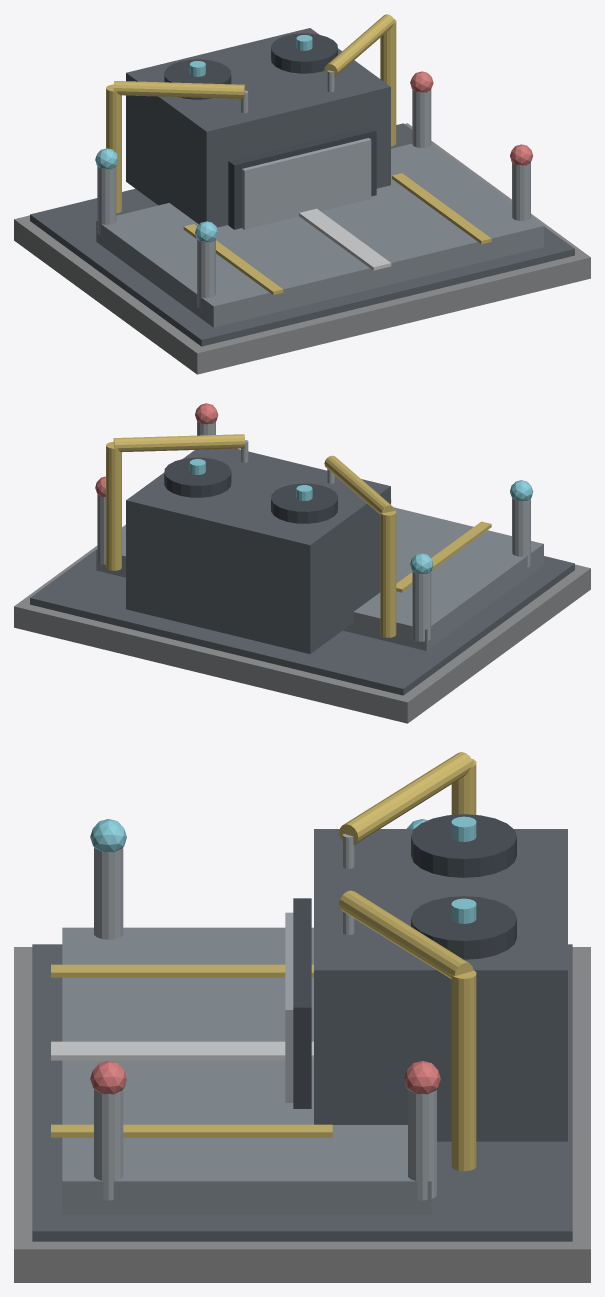
File: human_air_bay.glb
The picture shows the model from 3 angles, top to bottom: view 1: azimuth 30°, elevation 25°; view 2: azimuth 150°, elevation 25°; view 3: azimuth 270°, elevation 25°; orthographic projection. The views are drawn at different scales.
Parts seen in each view (by area): view 1: landing_platform, hangar_block, foundation, foundation_top, hangar_door, hangar_opening, roof_fan_1, crane_boom_-1, runway_center, crane_mast_-1, roof_fan_-1, crane_mast_1 (+7 smaller); view 2: hangar_block, foundation, foundation_top, landing_platform, crane_mast_-1, roof_fan_1, roof_fan_-1, crane_mast_1, crane_boom_1, beacon_tower_2, crane_boom_-1, beacon_tower_0 (+2 smaller); view 3: landing_platform, hangar_block, foundation, foundation_top, roof_fan_-1, crane_mast_1, runway_center, roof_fan_1, hangar_opening, runway_edge_1, crane_boom_-1, crane_boom_1 (+9 smaller).
Part boxes in pixels (<box>): landing_platform: <box>96,143,543,327</box>; hangar_block: <box>126,28,390,227</box>; foundation: <box>14,123,590,374</box>; foundation_top: <box>30,123,574,346</box>; hangar_door: <box>242,138,371,229</box>; hangar_opening: <box>228,126,376,229</box>; roof_fan_1: <box>271,33,337,73</box>; crane_boom_-1: <box>113,81,245,98</box>; runway_center: <box>299,208,391,270</box>; crane_mast_-1: <box>106,84,121,213</box>; roof_fan_-1: <box>164,59,231,99</box>; crane_mast_1: <box>380,19,396,146</box>; hangar_block: <box>126,448,390,653</box>; foundation: <box>14,524,590,723</box>; foundation_top: <box>30,550,574,695</box>; landing_platform: <box>96,507,543,650</box>; crane_mast_-1: <box>380,510,396,637</box>; roof_fan_1: <box>164,457,231,497</box>; roof_fan_-1: <box>271,483,337,523</box>; crane_mast_1: <box>106,442,121,570</box>; crane_boom_1: <box>113,434,245,452</box>; beacon_tower_2: <box>412,571,431,641</box>; crane_boom_-1: <box>324,455,394,514</box>; beacon_tower_0: <box>512,498,530,567</box>; landing_platform: <box>62,927,431,1214</box>; hangar_block: <box>314,829,567,1141</box>; foundation: <box>14,947,590,1282</box>; foundation_top: <box>32,944,572,1241</box>; roof_fan_-1: <box>411,814,516,877</box>; crane_mast_1: <box>451,970,476,1171</box>; runway_center: <box>51,1041,313,1060</box>; roof_fan_1: <box>411,896,516,959</box>; hangar_opening: <box>293,898,311,1108</box>; runway_edge_1: <box>51,1124,332,1137</box>; crane_boom_-1: <box>339,752,473,844</box>; crane_boom_1: <box>339,890,473,978</box>.
Size of the model in its own units: 3.1 by 1.31 by 2.5.
